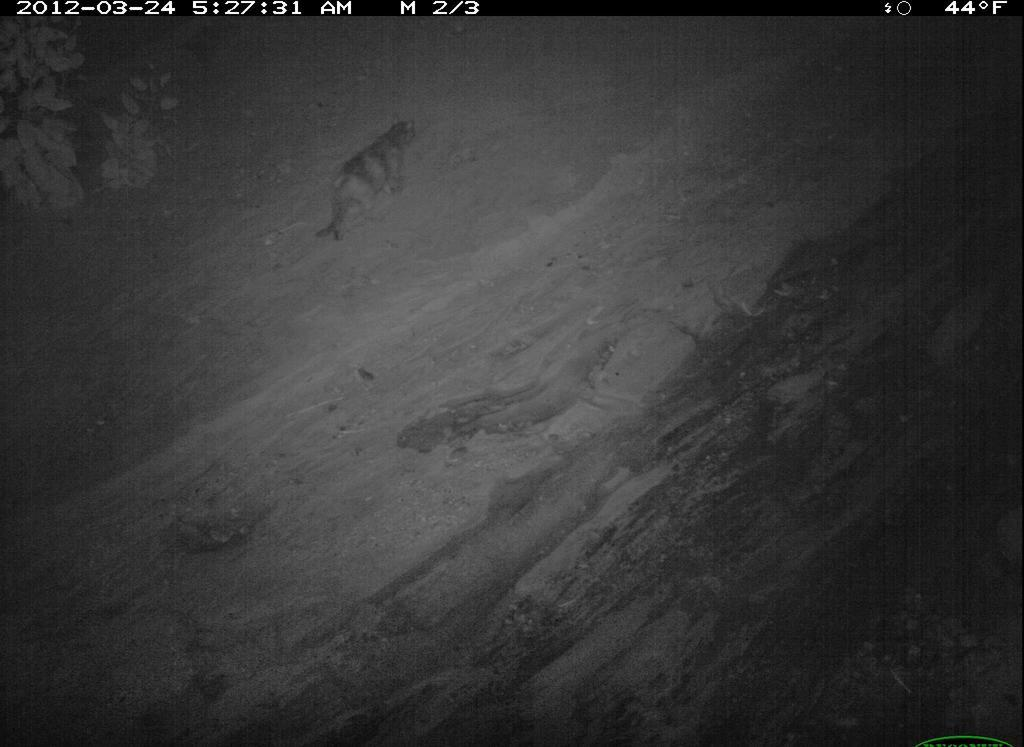cat: (617, 227, 846, 494)
